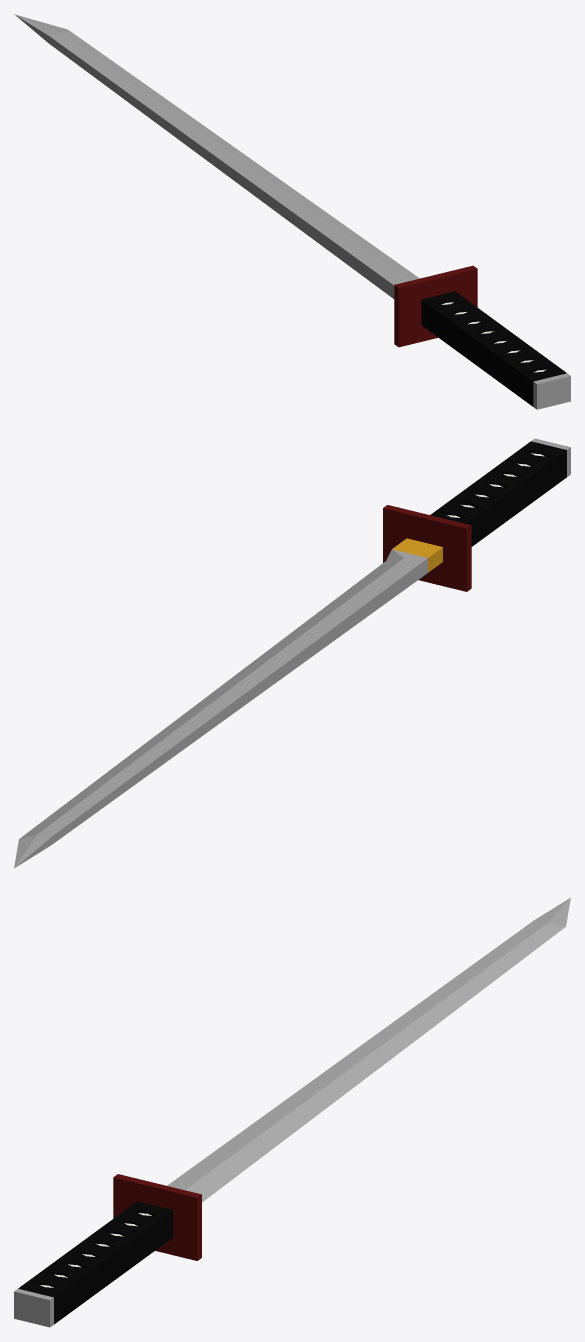
Rendered from Ninjato - Textured Low Poly Asian Weapon Pack by Kickin It Studios.fbx.
3 views of the same model, one above another, from view 1: azimuth 30°, elevation 25°; view 2: azimuth 150°, elevation 25°; view 3: azimuth 330°, elevation 25° (orthographic). The views are drawn at different scales.
Visible parts, largest first — view 1: Ninjato; view 2: Ninjato; view 3: Ninjato.
Boxes of the visible parts, bbox=[...] form: Ninjato: bbox=[14, 14, 570, 409]; Ninjato: bbox=[14, 438, 570, 868]; Ninjato: bbox=[14, 897, 570, 1327].
Bounding box in the file's own units: 55.02 × 39.55 × 631.
